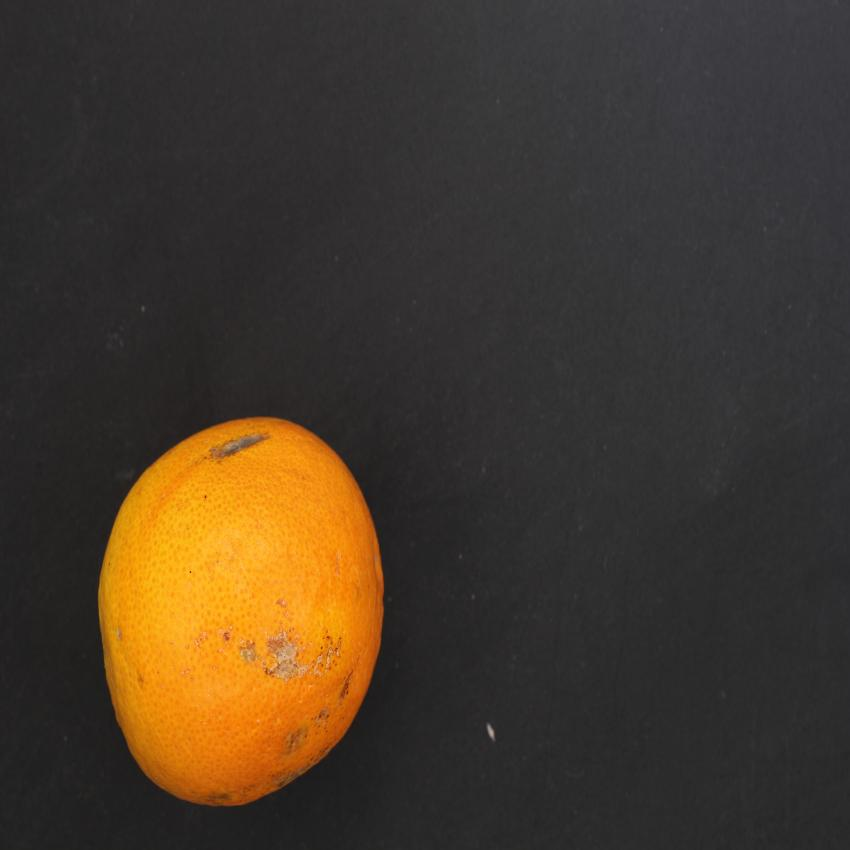Mal estado: (88, 391, 401, 826)
